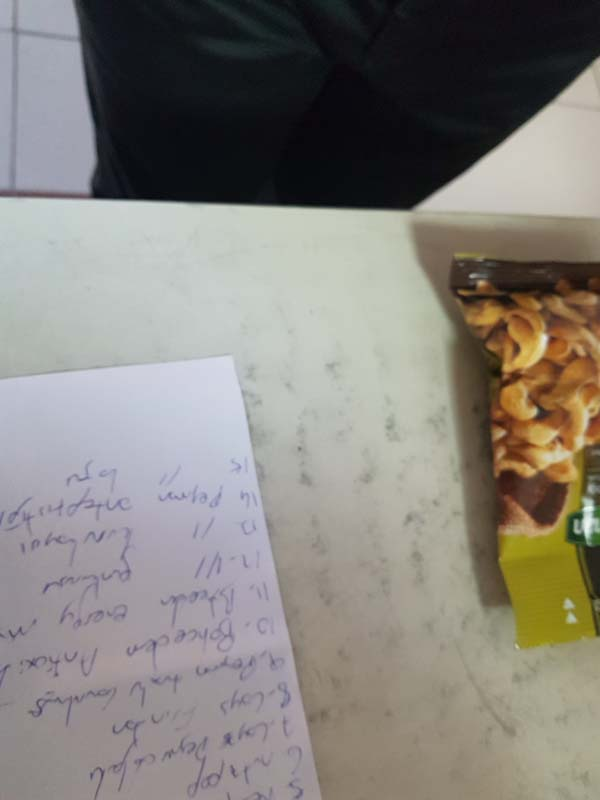kajupeyman: (451, 242, 600, 650)
